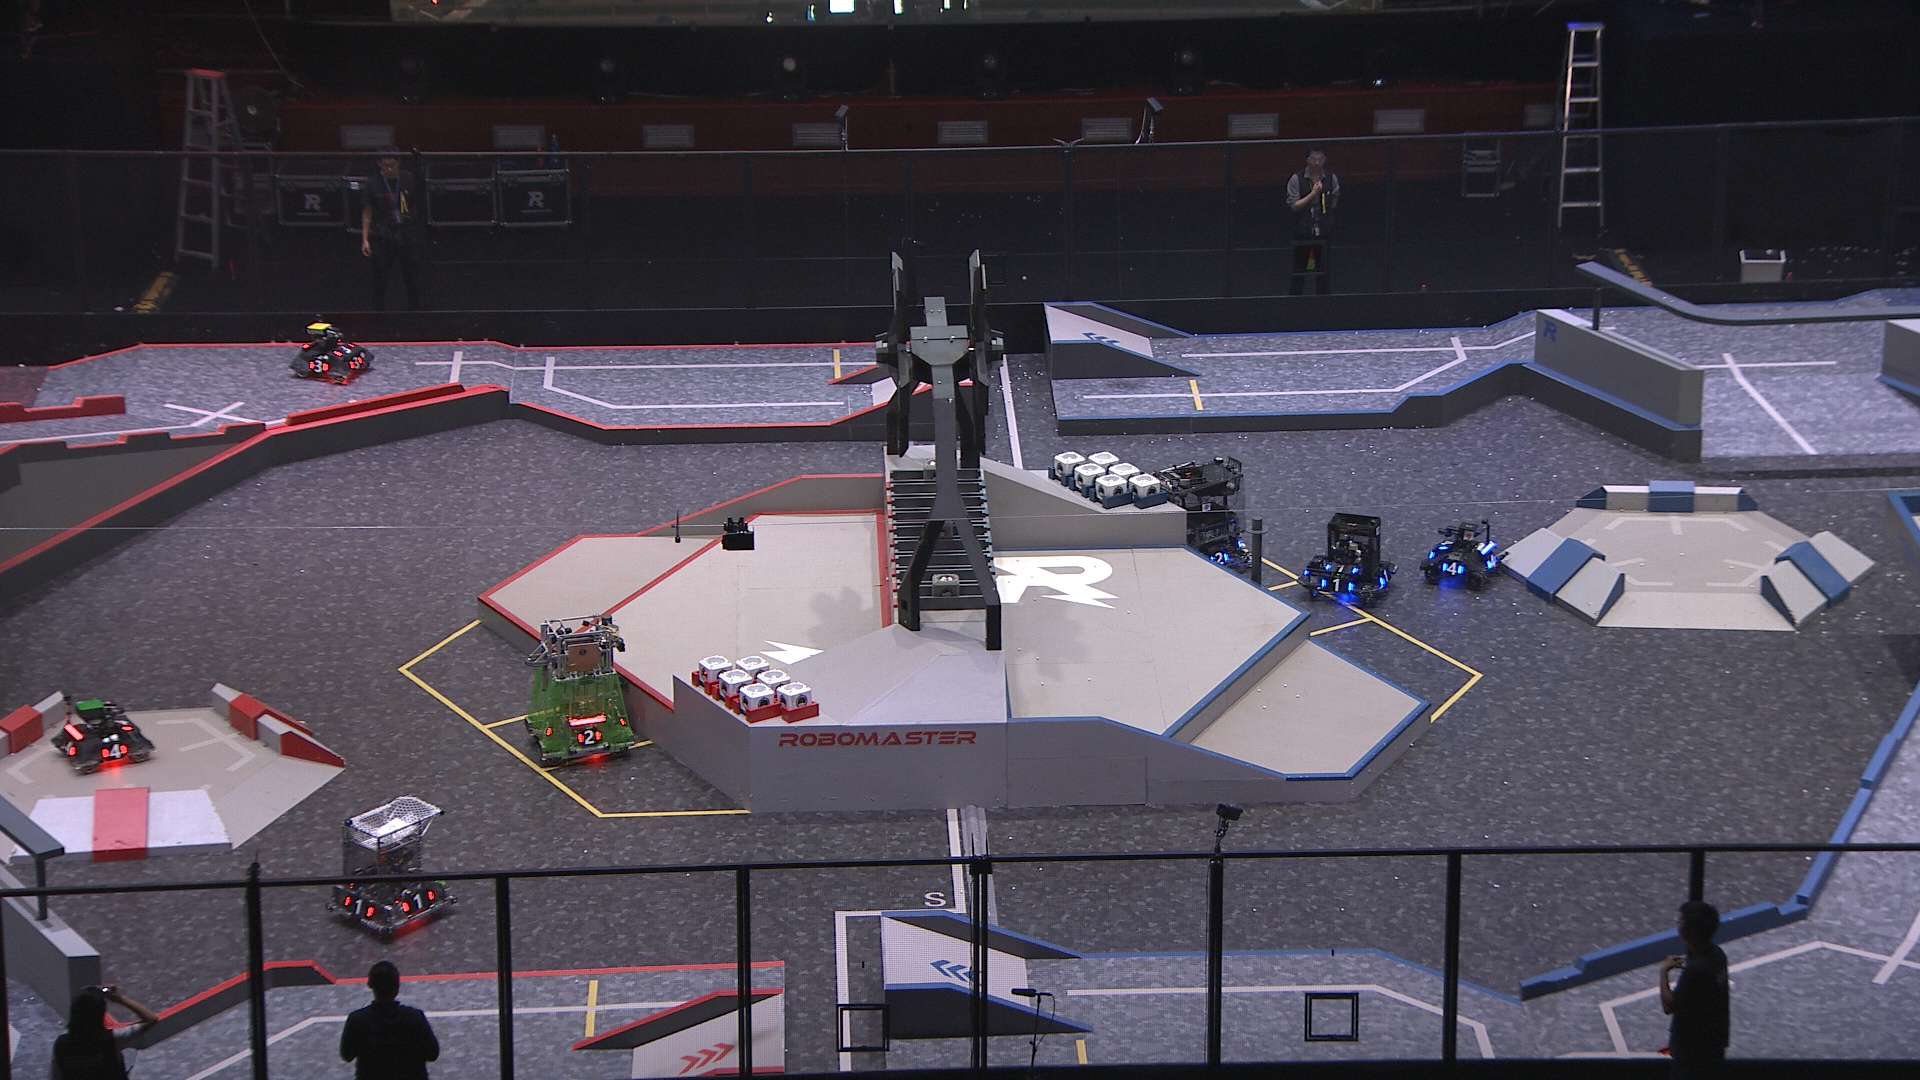armor: (400, 889, 436, 915), (339, 897, 377, 920), (98, 741, 131, 760), (1319, 579, 1356, 593), (1323, 560, 1360, 574), (1441, 560, 1465, 579), (59, 740, 80, 760), (1375, 566, 1394, 588), (575, 731, 603, 745), (330, 342, 353, 357), (111, 716, 133, 732), (309, 357, 330, 373), (348, 353, 367, 371), (1209, 553, 1230, 567), (1485, 553, 1498, 571), (1436, 538, 1455, 550), (539, 721, 553, 737)
car: (320, 796, 462, 943), (518, 617, 638, 764), (1145, 454, 1255, 578), (1298, 510, 1400, 604), (53, 690, 154, 777), (1422, 517, 1509, 589), (289, 320, 375, 386)
